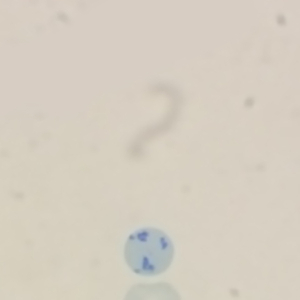aggregate reticulocyte: (122, 226, 176, 278)
